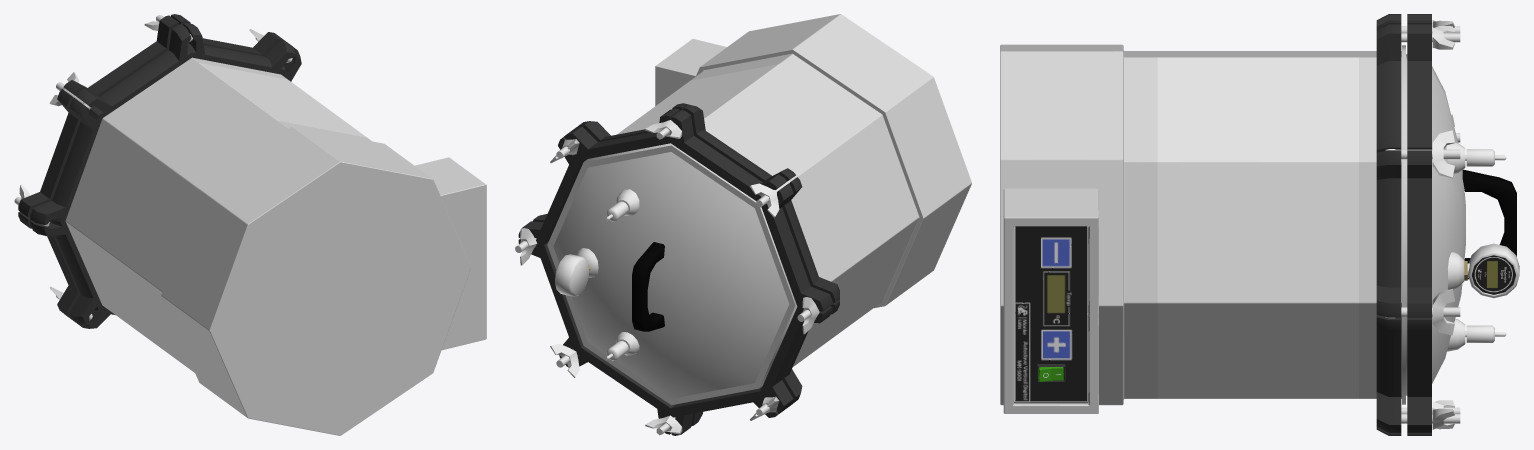
File: Autoclave.dae
3 renders of one model, left to right at view 1: azimuth 30°, elevation 25°; view 2: azimuth 150°, elevation 25°; view 3: azimuth 270°, elevation 25°, orthographic. The views are drawn at different scales.
Parts seen in each view (by area): view 1: Autoclave_drum, Autoclave_lock, Autoclave_lock_screws; view 2: Autoclave_drum, Autoclave_lid, Autoclave_lock, Autoclave_lock_screws; view 3: Autoclave_drum, Autoclave_lock, Autoclave_lid, Autoclave_lock_screws.
Boxes of the visible parts, x1,y1,x2,y2 form: Autoclave_drum: (65, 57, 486, 435); Autoclave_lock: (18, 14, 301, 328); Autoclave_lock_screws: (14, 15, 292, 320); Autoclave_drum: (617, 14, 971, 366); Autoclave_lid: (547, 143, 797, 405); Autoclave_lock: (518, 103, 839, 435); Autoclave_lock_screws: (515, 120, 819, 435); Autoclave_drum: (1000, 44, 1401, 413); Autoclave_lock: (1376, 14, 1431, 435); Autoclave_lid: (1402, 45, 1519, 404); Autoclave_lock_screws: (1385, 20, 1460, 429).
Bounding box in the file's own units: 0.36 × 0.421 × 0.36.
8 materials, 1 textured.
